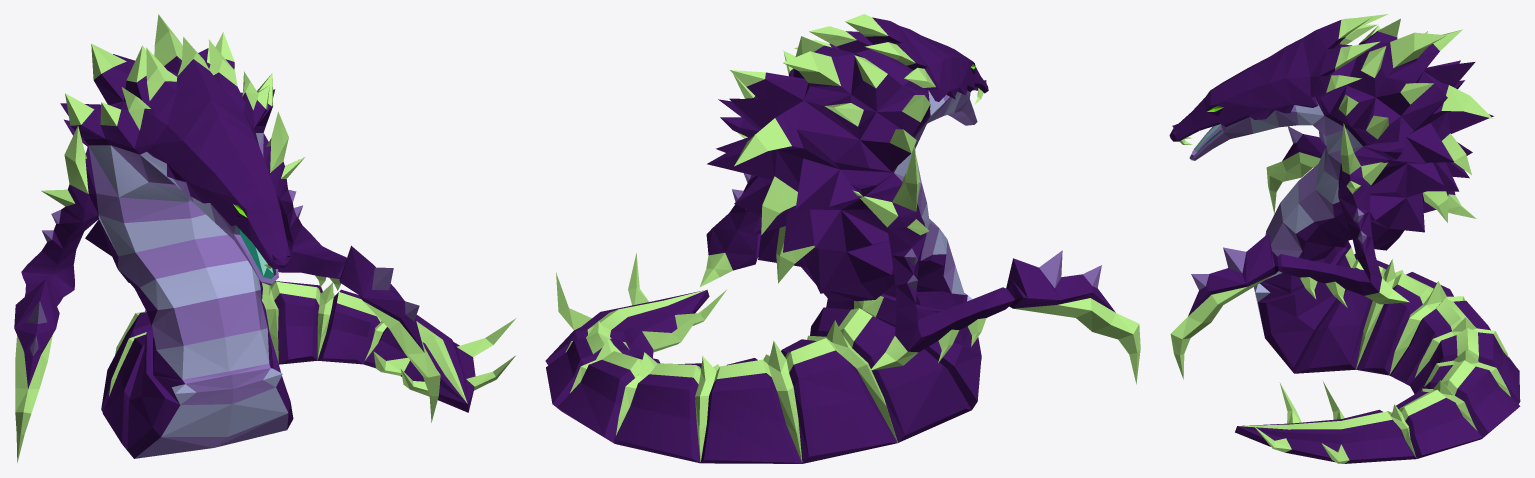
3 renders of one model, left to right at view 1: azimuth 30°, elevation 25°; view 2: azimuth 150°, elevation 25°; view 3: azimuth 270°, elevation 25°, orthographic. The views are drawn at different scales.
Visible parts, largest first — view 1: Alien_Serpent; view 2: Alien_Serpent; view 3: Alien_Serpent.
Part boxes in pixels (<box>): Alien_Serpent: <box>14,14,516,462</box>; Alien_Serpent: <box>545,14,1140,463</box>; Alien_Serpent: <box>1169,14,1520,463</box>.
Bounding box in the file's own units: 301 × 206 × 196.
1 material, 1 textured.
